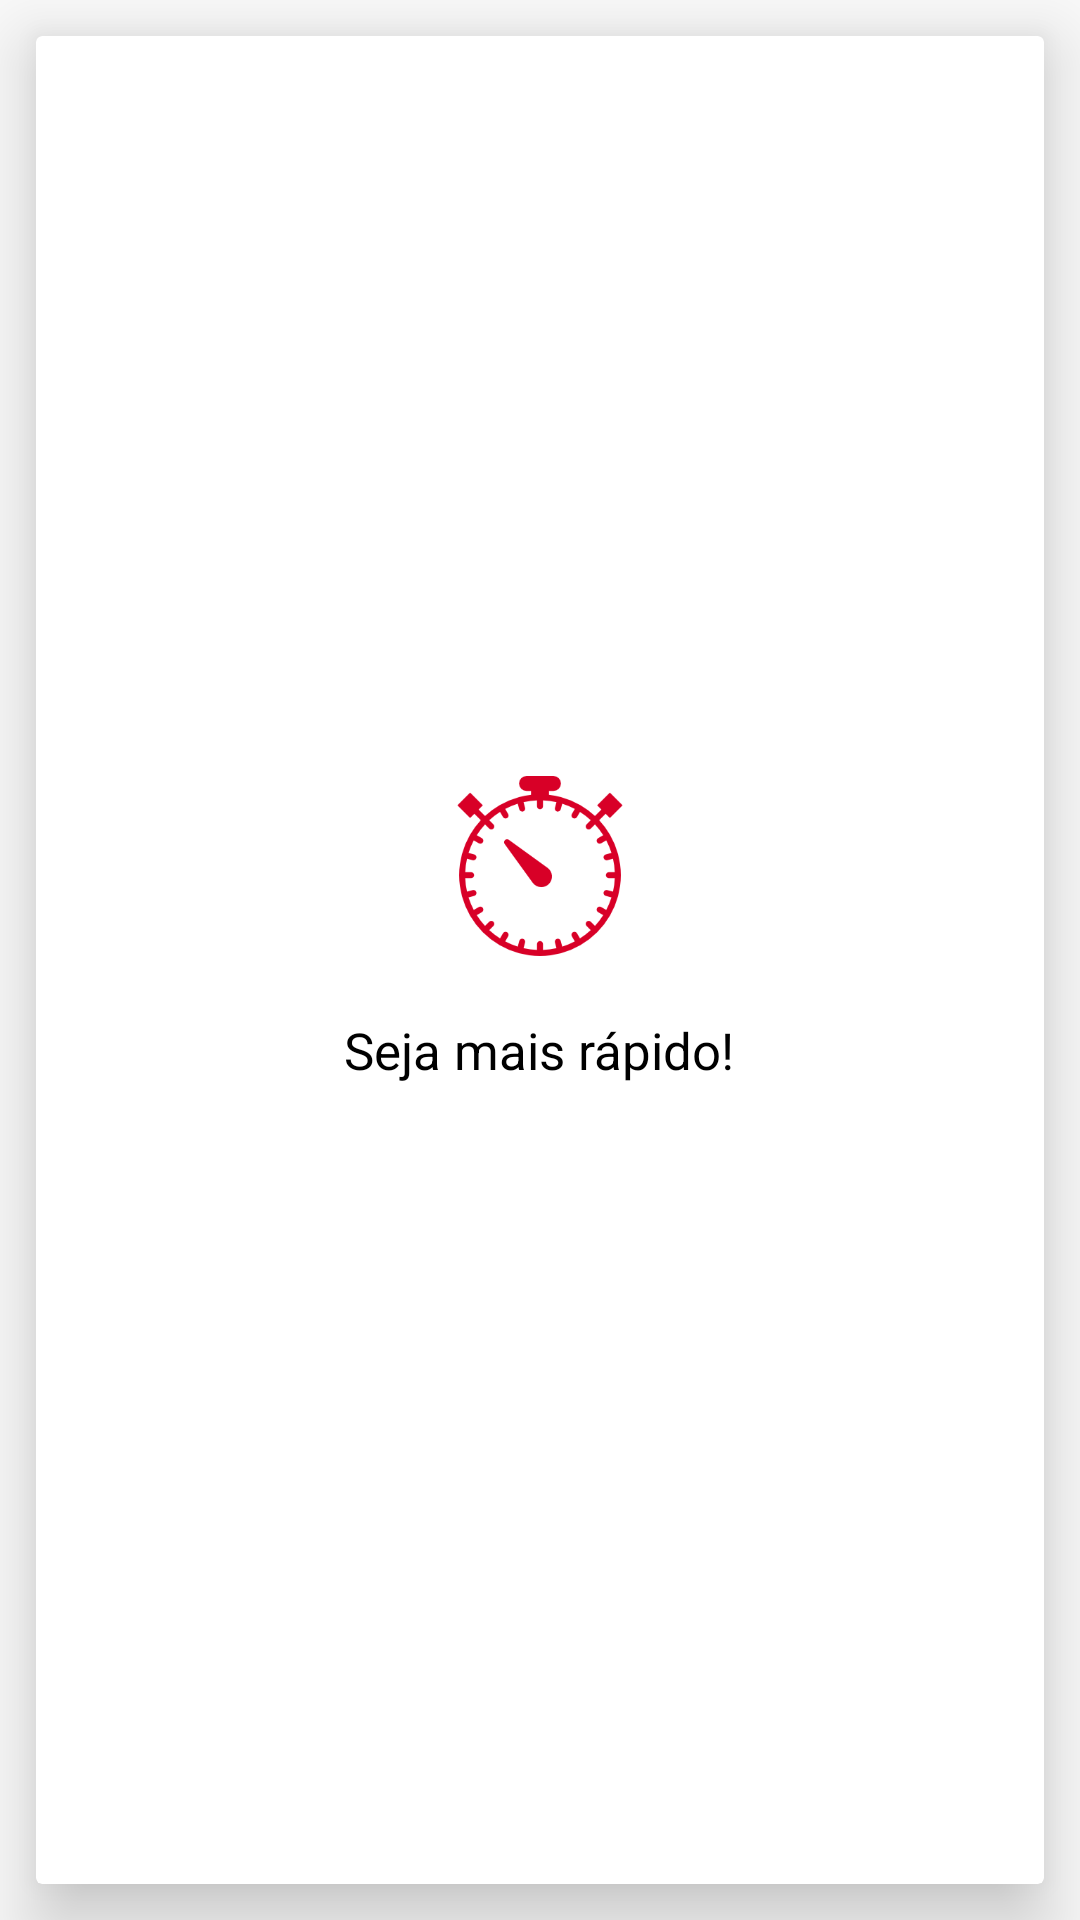

Icons on this 1080×1920 Android screen, each with the point to tap as (x=x, y=y):
stopwatch: (x=540, y=866)
